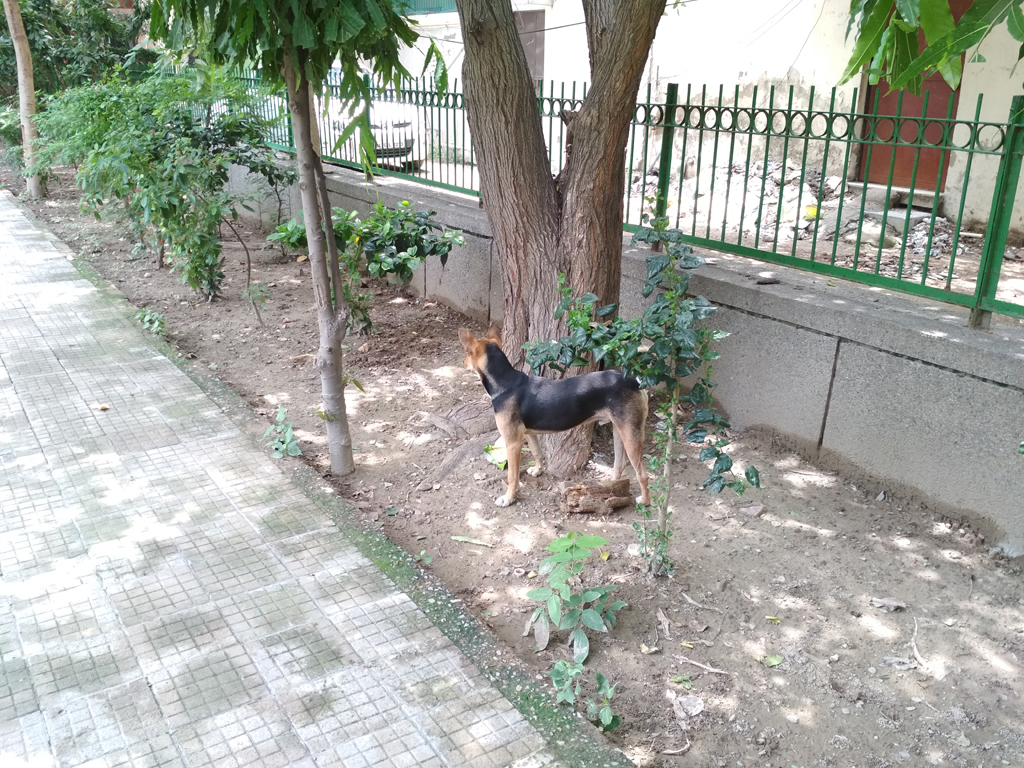dog: (458, 321, 649, 507)
